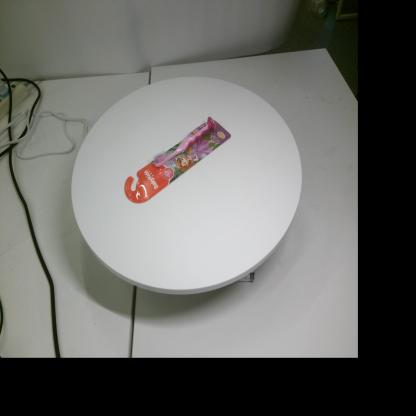Personal Hygiene: (124, 116, 231, 204)
